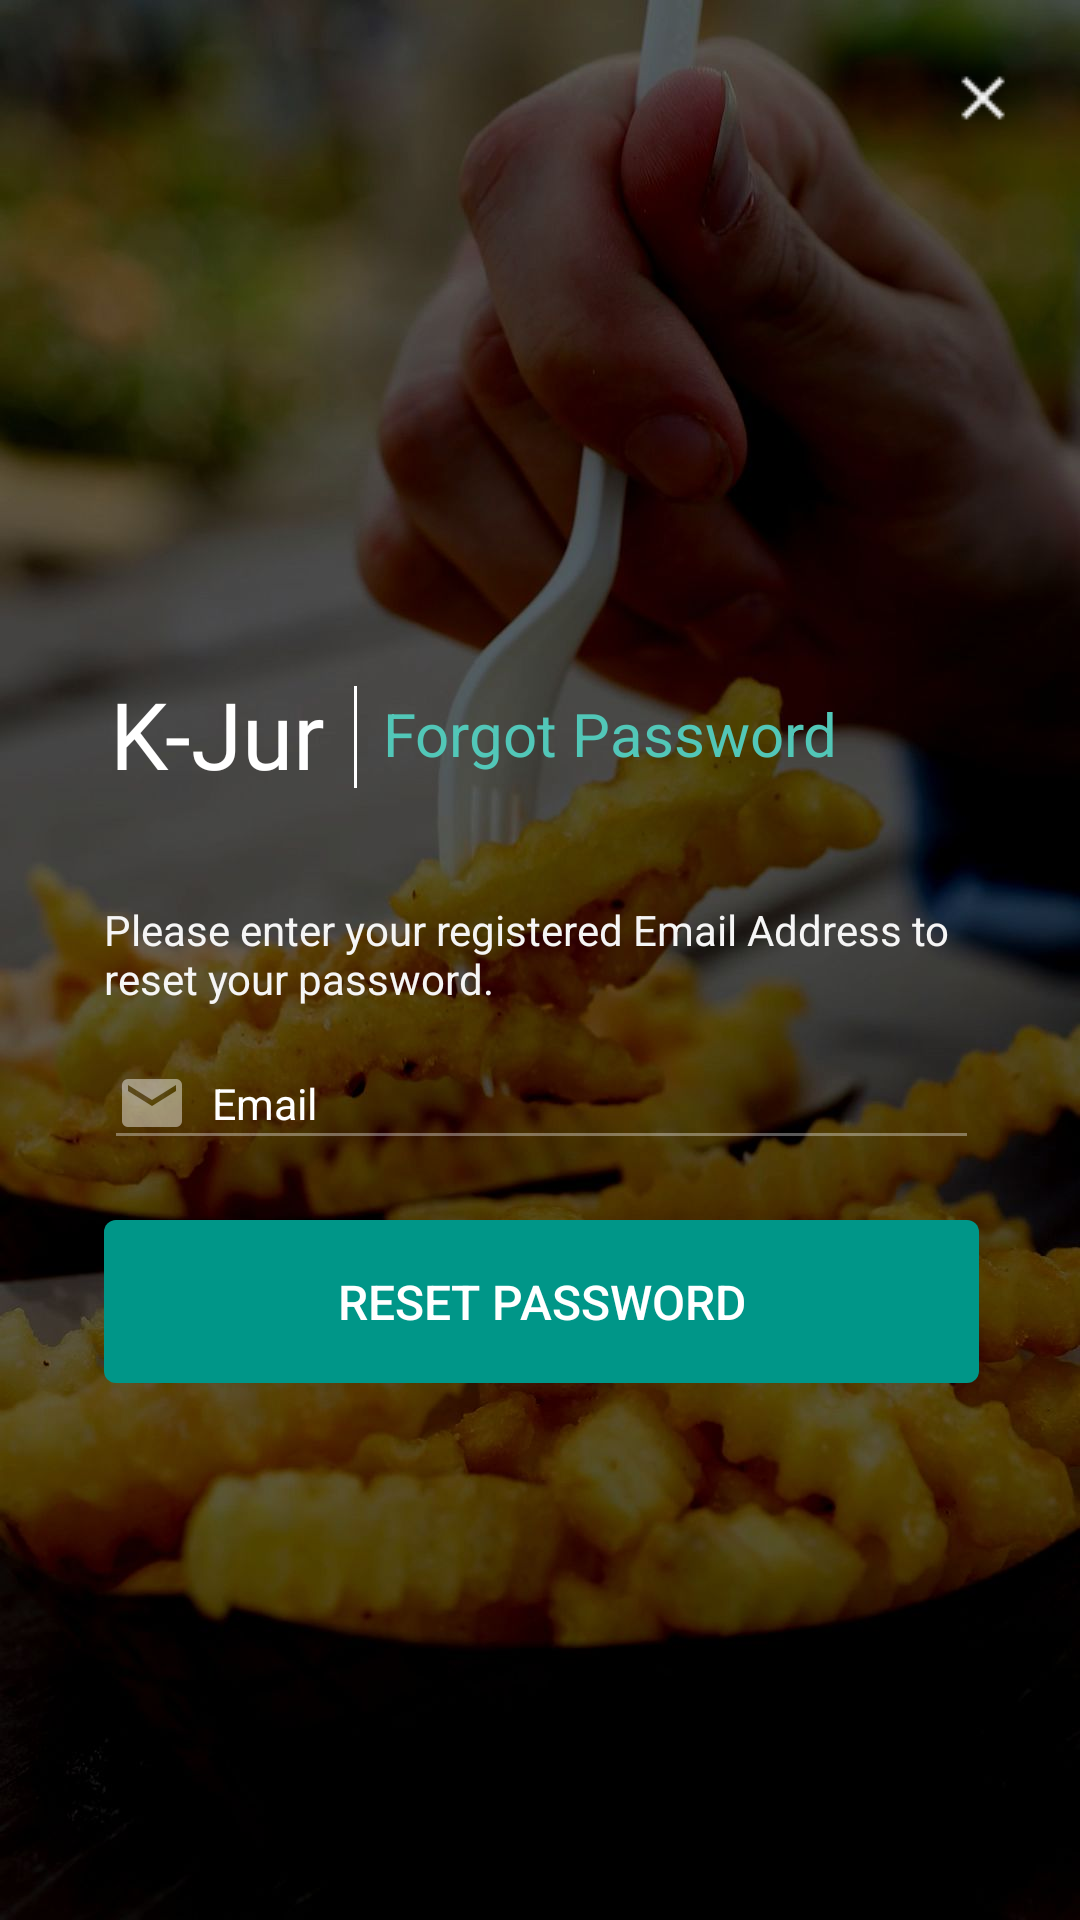

Named icons in this screenshot (1080*1920) and their centers, (x=x, y=y):
close: (x=982, y=97)
